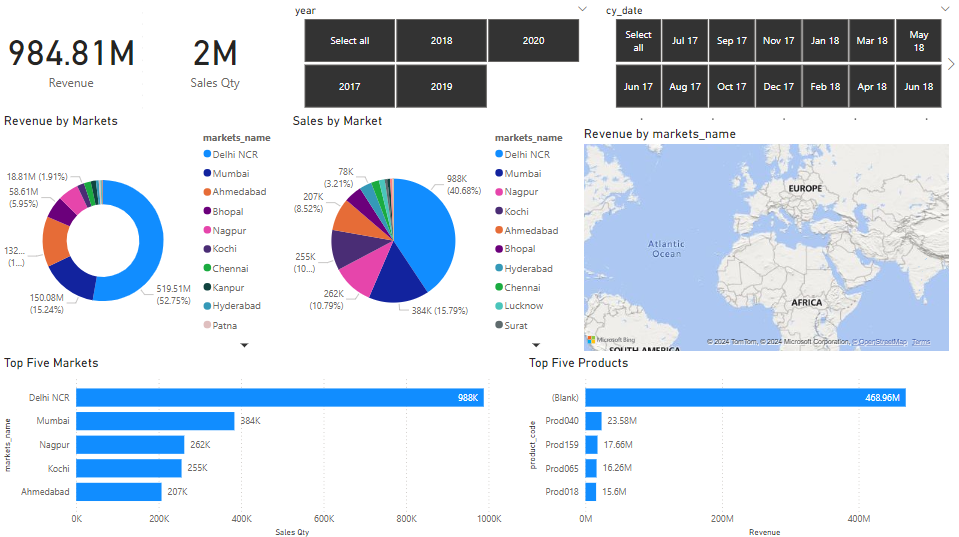

What the dashboard file says about the page in this screenshot:
{"tool":"powerbi","page":{"name":"Page 1","canvas":[1280,720],"ordinal":0},"visuals":[{"type":"card","fields":{"Values":["BaseMeasures.Revenue"]},"box":[0,0,190,150],"z":0},{"type":"card","fields":{"Values":["BaseMeasures.Sales Qty"]},"box":[190,0,194,150],"z":1000},{"type":"donutChart","title":"Revenue by Markets","fields":{"Category":["sales markets.markets_name"],"Y":["BaseMeasures.Revenue"]},"box":[0,150,384.3,322.9],"z":2000},{"type":"pieChart","title":"Sales by Market","fields":{"Category":["sales markets.markets_name"],"Y":["BaseMeasures.Sales Qty"]},"box":[384.3,150,388.6,322.9],"z":3000},{"type":"slicer","fields":{"Values":["sales date.year"]},"box":[380,0,415.7,150],"z":4000},{"type":"slicer","fields":{"Values":["sales date.cy_date"]},"box":[795.7,0,484.3,150],"z":5000},{"type":"barChart","title":"Top Five Markets","fields":{"Category":["sales markets.markets_name"],"Y":["BaseMeasures.Sales Qty"]},"box":[0,472.9,700,247.1],"z":6000},{"type":"barChart","title":"Top Five Products","fields":{"Category":["sales products.product_code"],"Y":["BaseMeasures.Revenue"]},"box":[700,472.9,580,247.1],"z":7000},{"type":"filledMap","fields":{"Category":["sales markets.markets_name"]},"box":[772.9,168.6,497.1,304.3],"z":8000}]}

Visuals, with their boxes in screenshot pixels (x1, y1, x2, y2), scaled from the page's 1280x720 canvas onto the 959x537 screenshot:
card - BaseMeasures.Revenue: (left=0, top=0, right=142, bottom=112)
card - BaseMeasures.Sales Qty: (left=142, top=0, right=288, bottom=112)
"Revenue by Markets" donutChart: (left=0, top=112, right=288, bottom=353)
"Sales by Market" pieChart: (left=288, top=112, right=579, bottom=353)
slicer - sales date.year: (left=285, top=0, right=596, bottom=112)
slicer - sales date.cy_date: (left=596, top=0, right=958, bottom=112)
"Top Five Markets" barChart: (left=0, top=353, right=524, bottom=536)
"Top Five Products" barChart: (left=524, top=353, right=958, bottom=536)
filledMap - sales markets.markets_name: (left=579, top=126, right=952, bottom=353)
